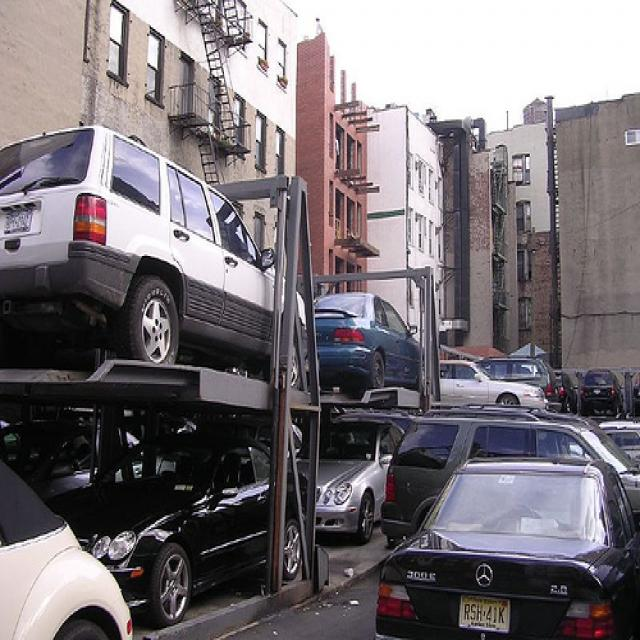Car: (0, 124, 311, 380), (365, 454, 639, 640), (48, 437, 306, 620), (294, 406, 418, 546), (298, 296, 431, 386), (418, 347, 544, 413)
